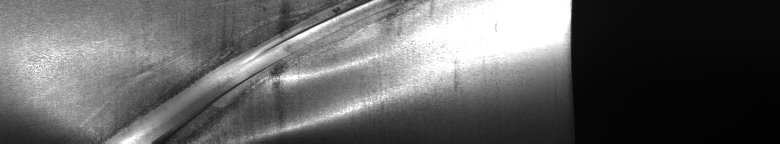ke: (111, 4, 398, 136)
